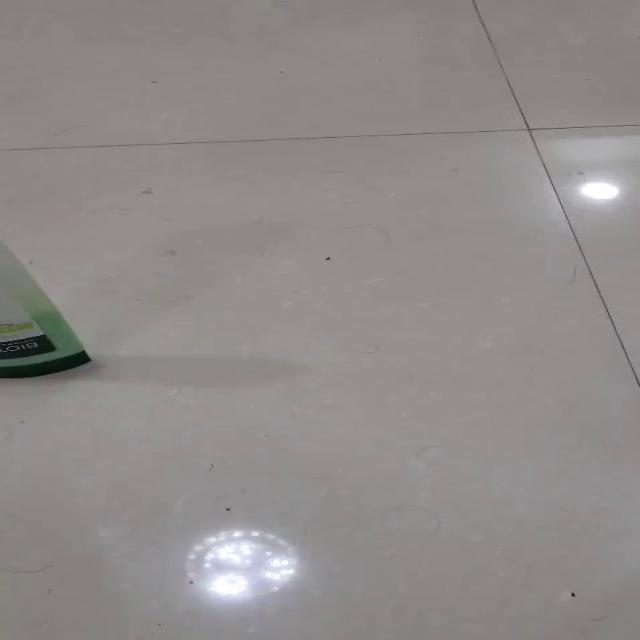plastic: (0, 240, 91, 378)
